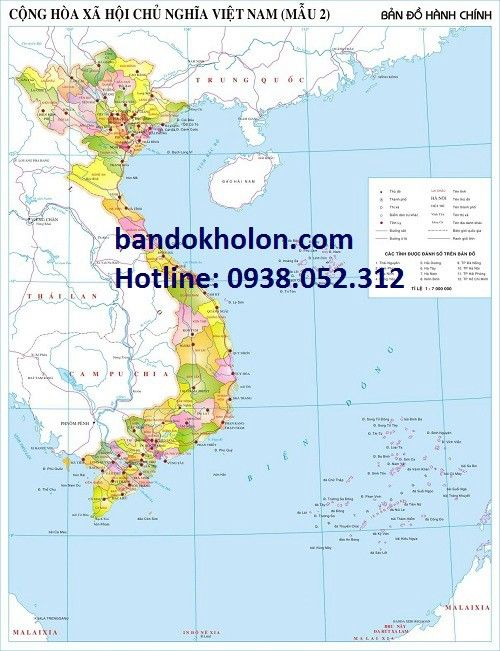Island: (297, 409, 482, 562), (278, 248, 350, 268)
